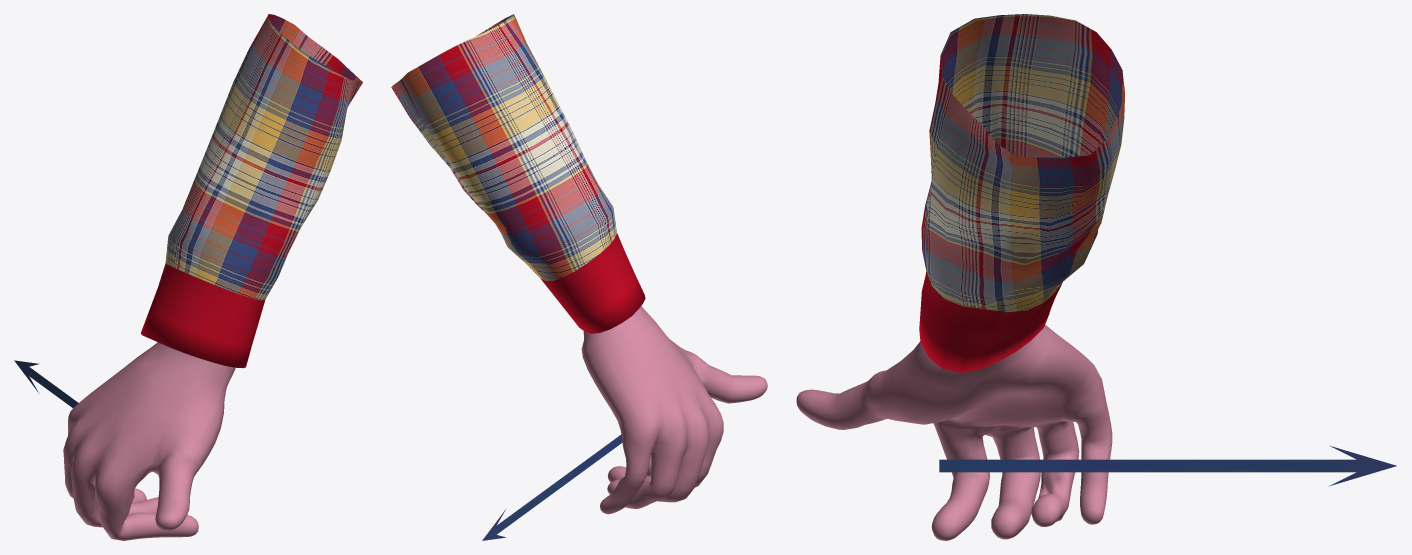
Rendered from forceHand.glb.
3 renders of one model, left to right at view 1: azimuth 30°, elevation 25°; view 2: azimuth 150°, elevation 25°; view 3: azimuth 270°, elevation 25°, orthographic. The views are drawn at different scales.
Parts seen in each view (by area): view 1: SweaterR, HandR, arrowForce; view 2: SweaterR, HandR, arrowForce; view 3: SweaterR, HandR, arrowForce.
Part boxes in pixels (x1,y1,x2,y2): SweaterR: (140, 14, 362, 368); HandR: (63, 342, 235, 540); arrowForce: (14, 360, 78, 407); SweaterR: (391, 14, 645, 333); HandR: (581, 306, 767, 514); arrowForce: (482, 434, 622, 540); SweaterR: (919, 14, 1124, 372); HandR: (796, 324, 1112, 540); arrowForce: (939, 445, 1396, 486).
Bounding box in the file's own units: 1.99 × 2.93 × 2.62.
2 materials, 2 textured.
